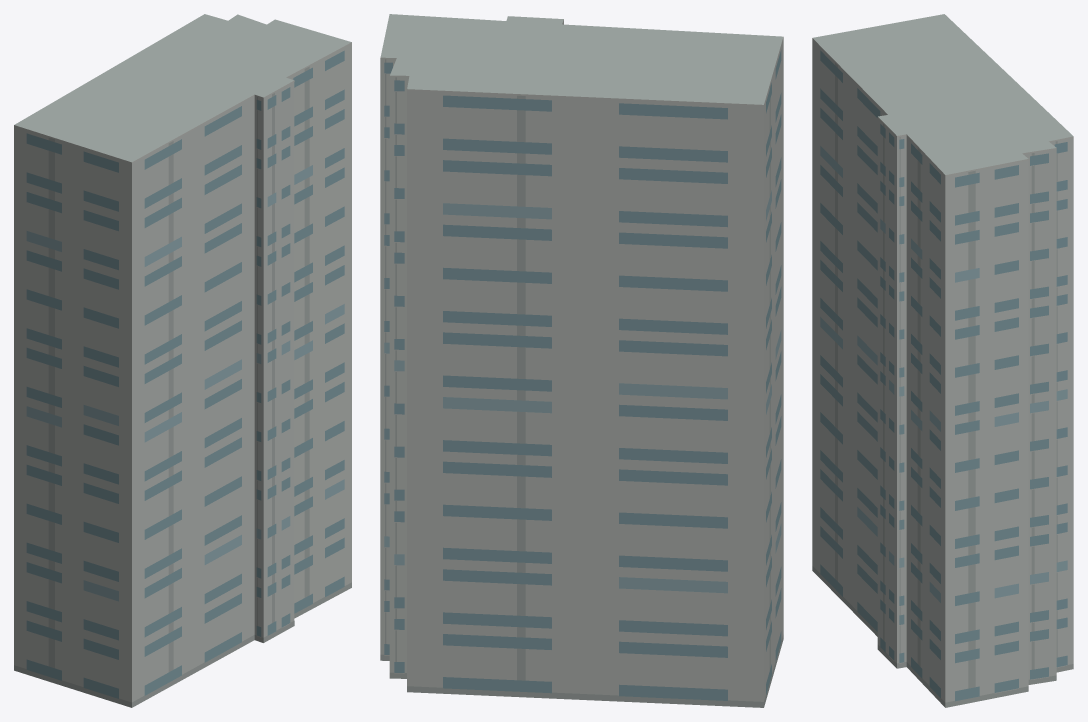
File: residential-f9c9e5a6-1329-4271-b5ff-03fd61d36c5e.glb
The picture shows the model from 3 angles, left to right: view 1: azimuth 30°, elevation 25°; view 2: azimuth 150°, elevation 25°; view 3: azimuth 270°, elevation 25°; orthographic projection. The views are drawn at different scales.
Visible parts, largest first — view 1: residential-f9c9e5a6-1329-4271-b5ff-03fd61d36c5e.tmp; view 2: residential-f9c9e5a6-1329-4271-b5ff-03fd61d36c5e.tmp; view 3: residential-f9c9e5a6-1329-4271-b5ff-03fd61d36c5e.tmp.
Boxes of the visible parts, x1=… form: residential-f9c9e5a6-1329-4271-b5ff-03fd61d36c5e.tmp: x1=14, y1=14, x2=351, y2=707; residential-f9c9e5a6-1329-4271-b5ff-03fd61d36c5e.tmp: x1=380, y1=14, x2=783, y2=707; residential-f9c9e5a6-1329-4271-b5ff-03fd61d36c5e.tmp: x1=812, y1=14, x2=1073, y2=707.
Size of the model in its own units: 58.41 by 90 by 40.03.
